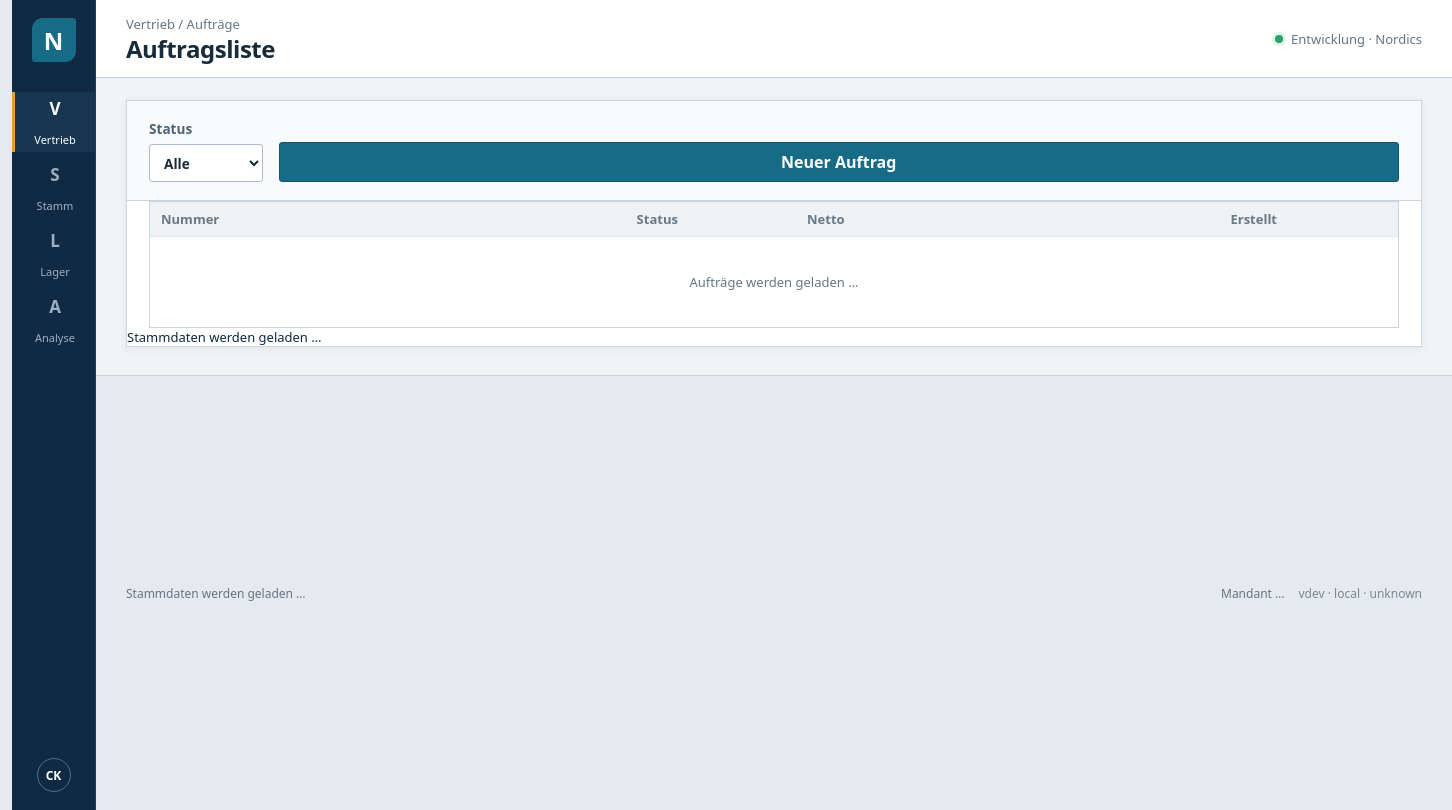
Test case: shows the problem detail when saving an article is rejected
Click the button titled "Stammdaten": point(54, 188) [12,158,95,218]
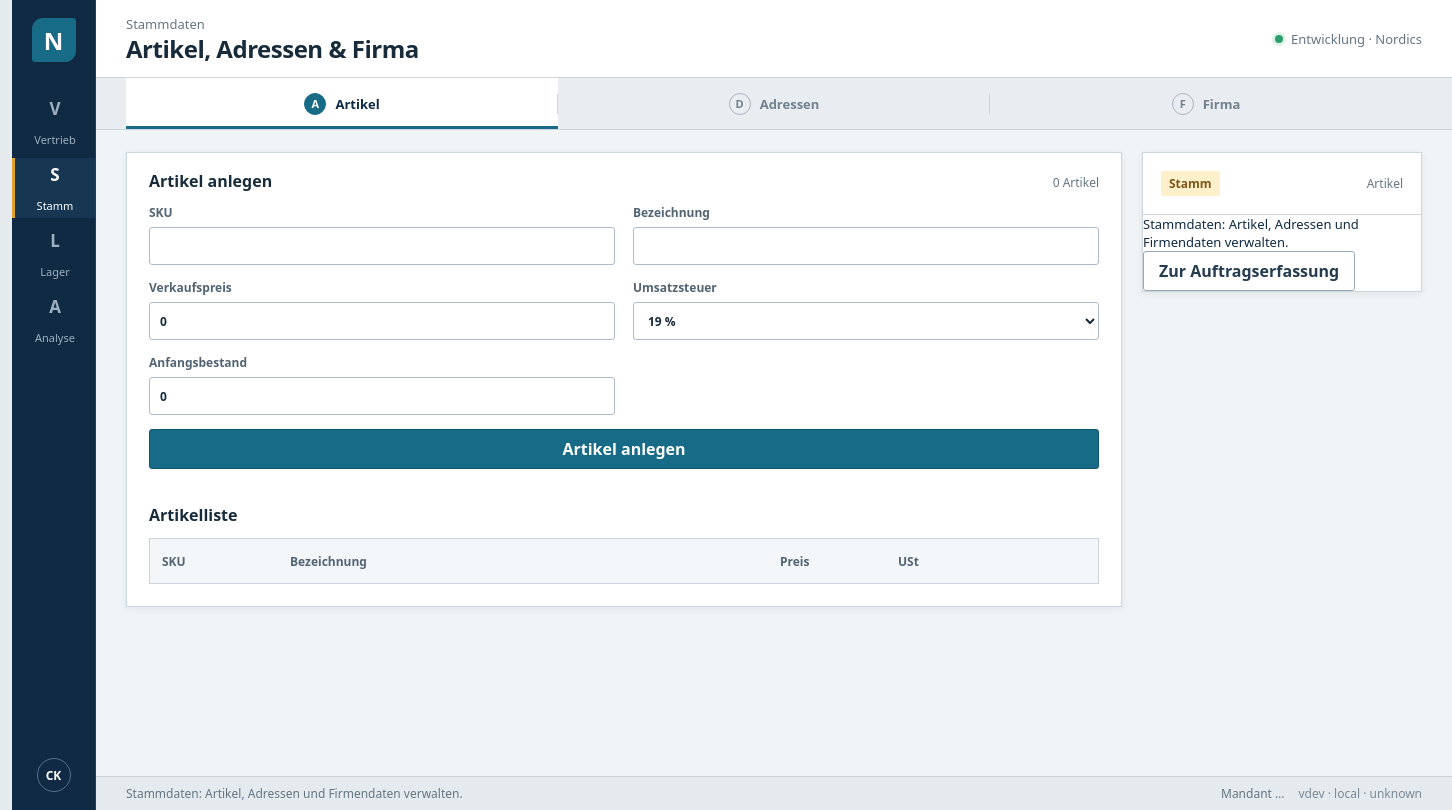
Expected: the heading "Artikel anlegen" is shown, [149,170,272,192]
In the field labelled "SKU": point(382, 246) [149,227,615,265], type "BIKE-001"
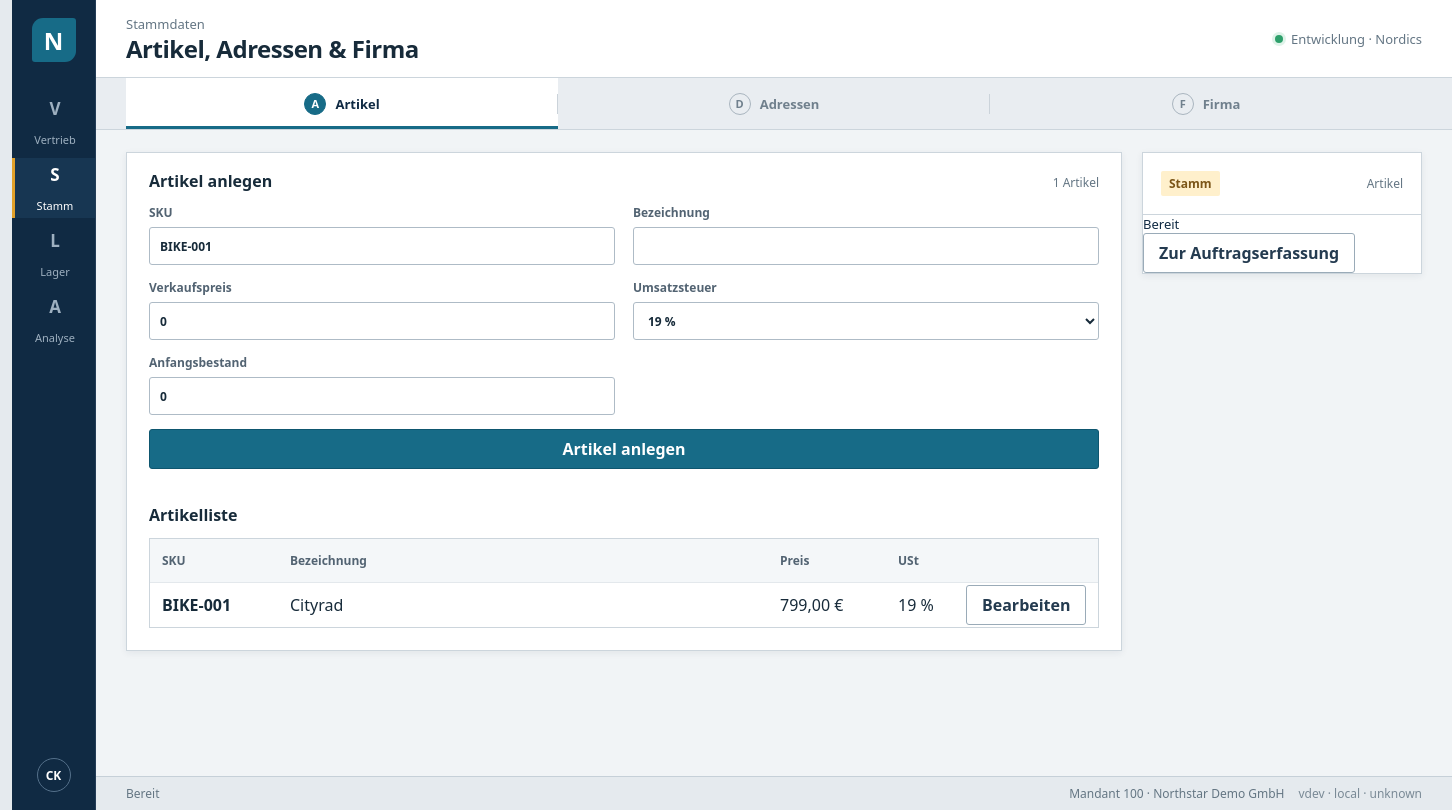
In the field labelled "Bezeichnung": point(866, 246) [633,227,1099,265], type "Cityrad"
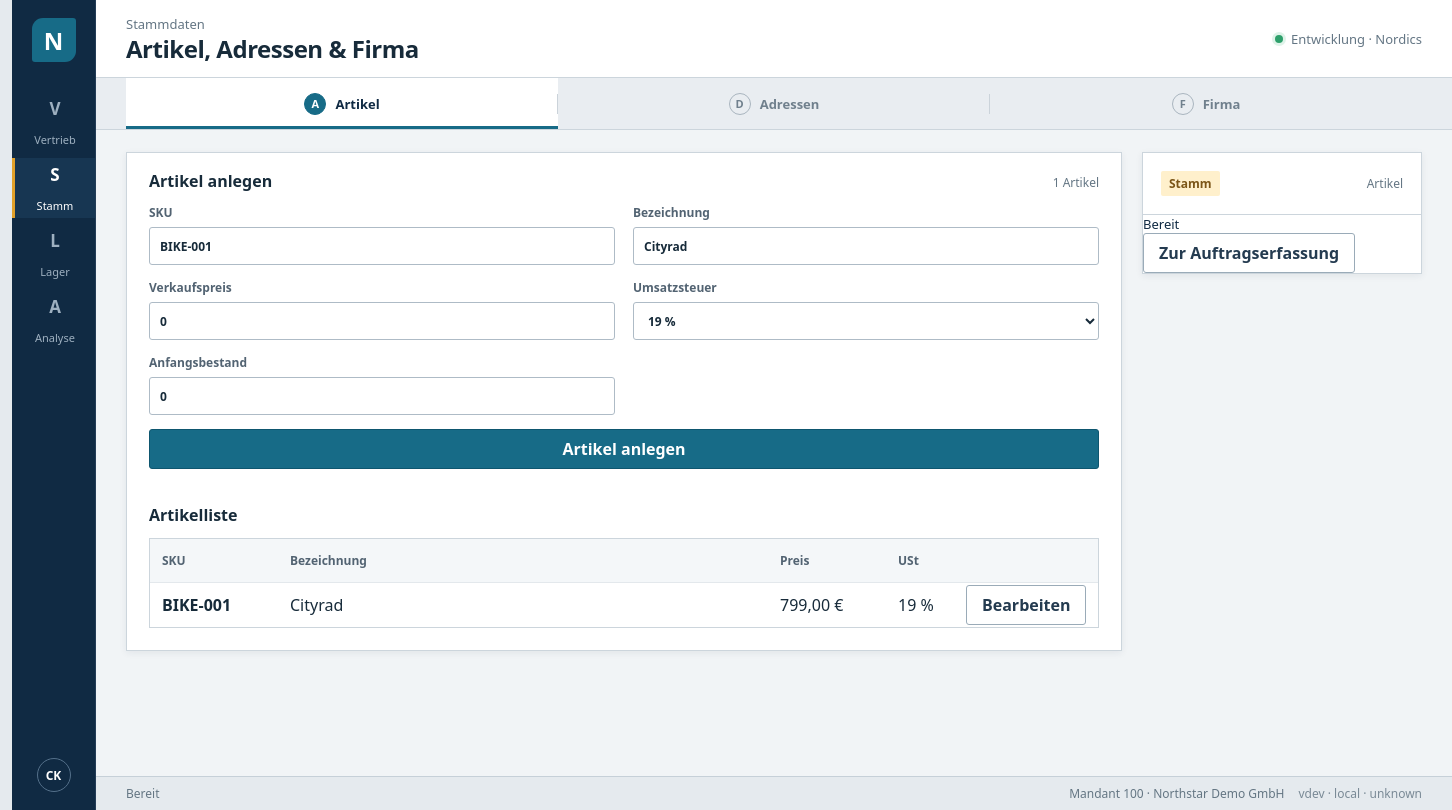
Click the button "Artikel anlegen": point(624, 449) [149,429,1099,469]
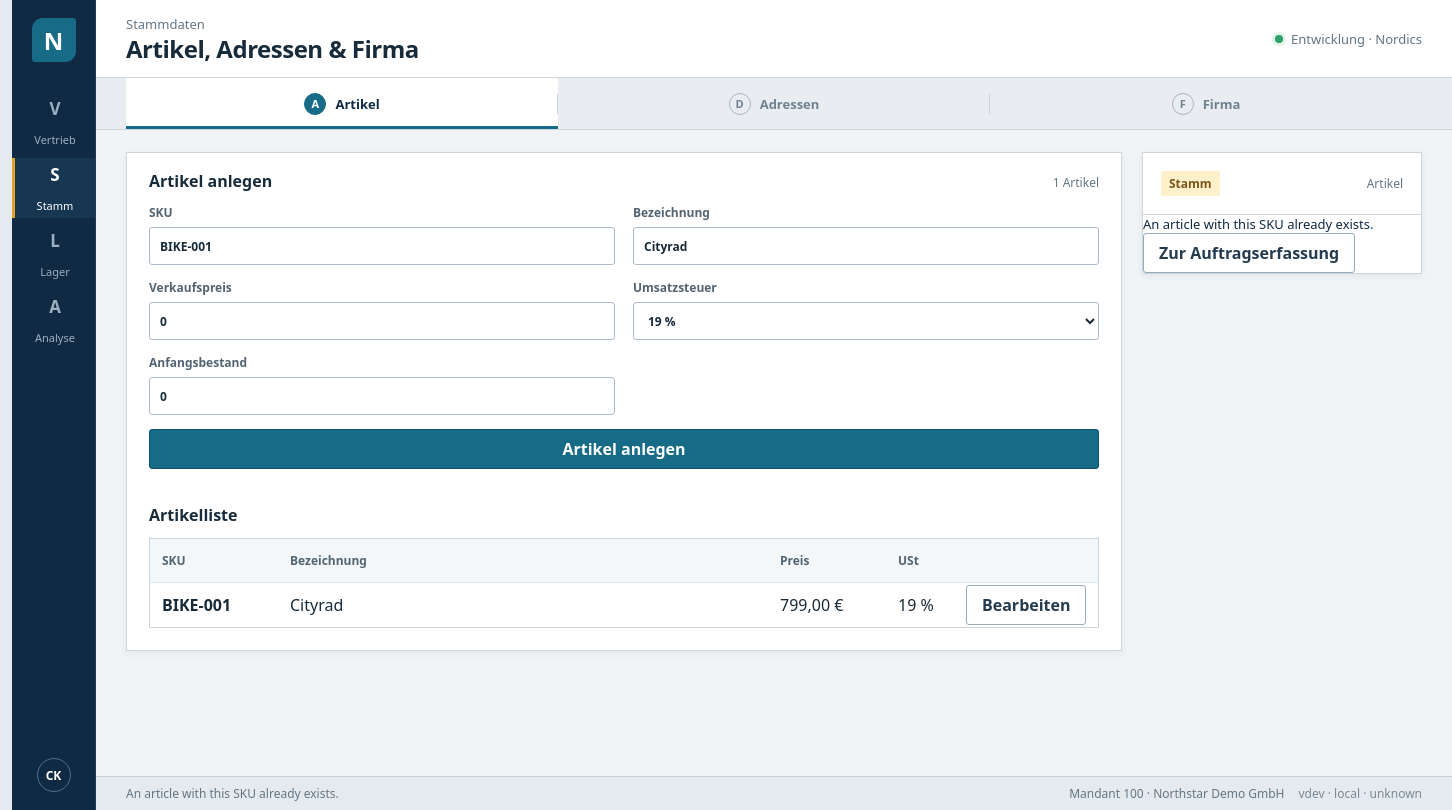
Expected: the 1st text "An article with this SKU already exists." is shown, [1143,215,1374,233]
